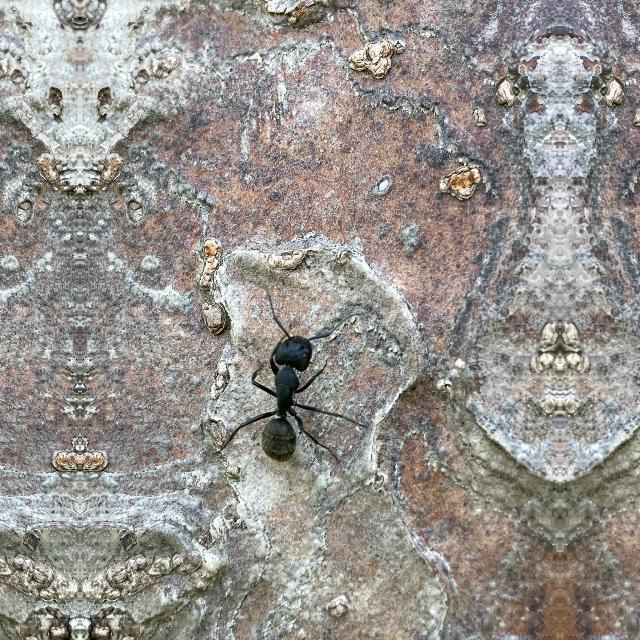Camponotus: (220, 290, 358, 470)
